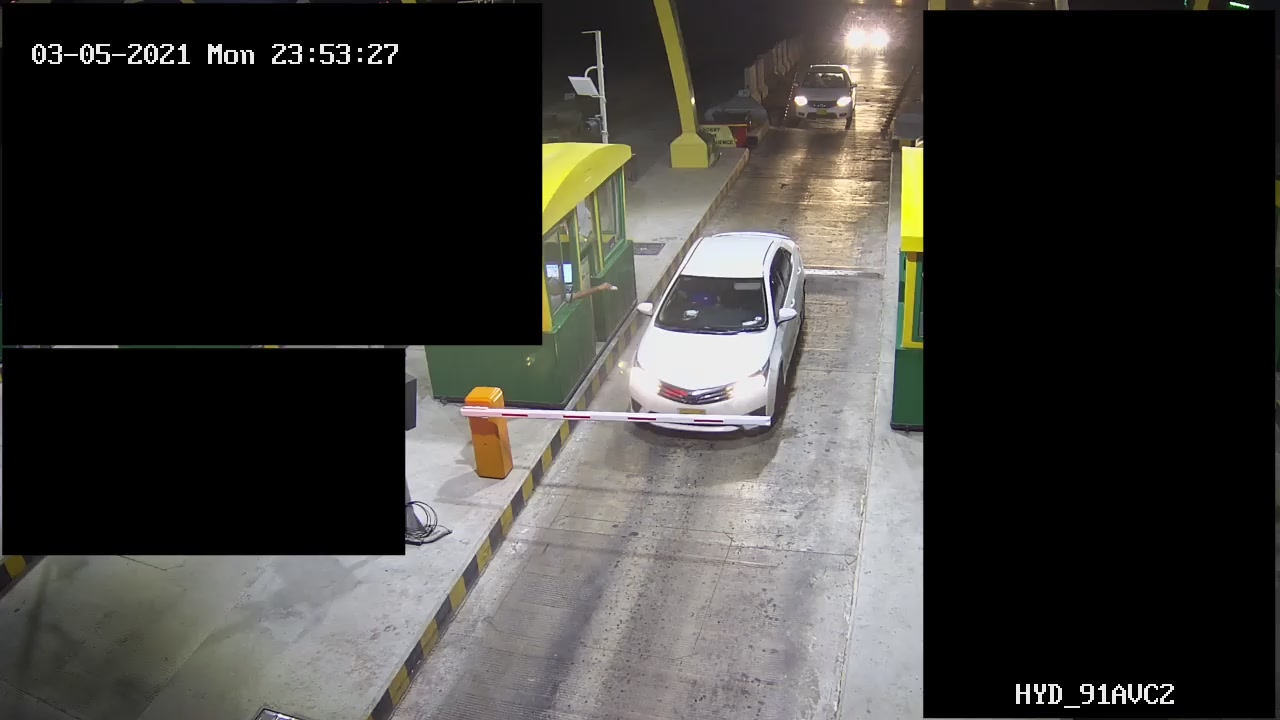F1: (617, 223, 822, 448)
